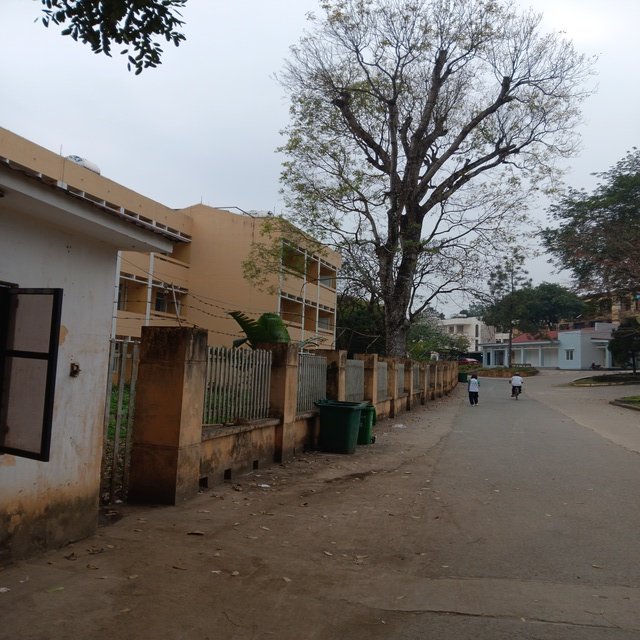thungrac: (321, 400, 360, 452), (357, 406, 376, 447)
